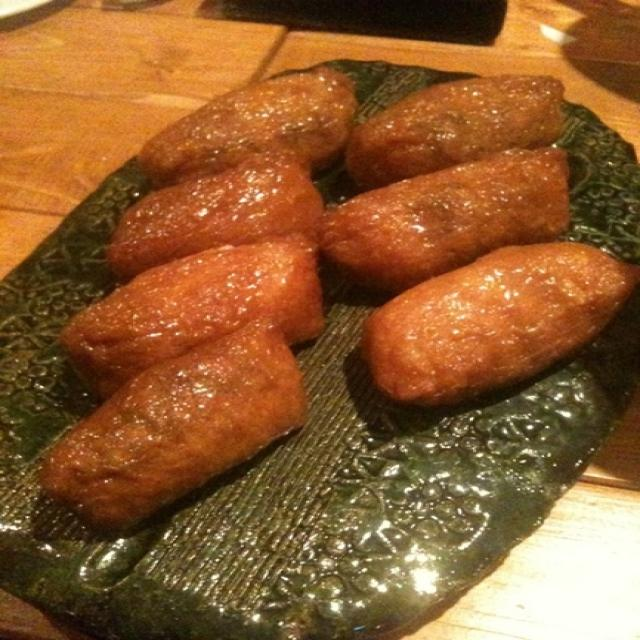寿司卷物: (34, 31, 627, 586)
